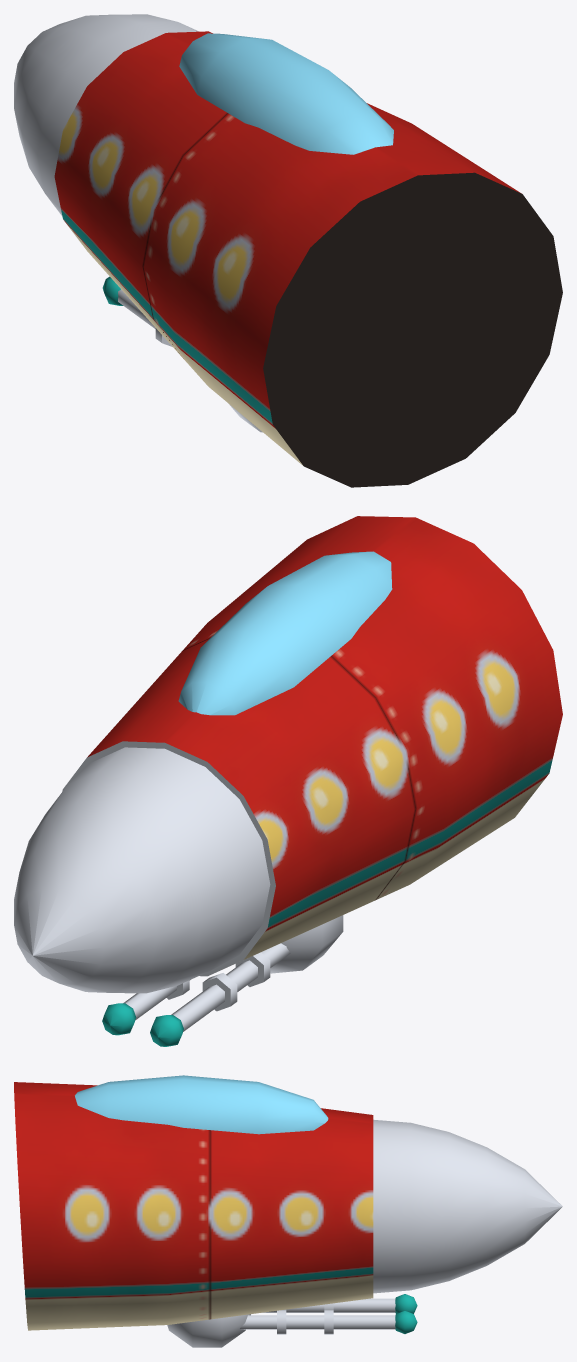
The model's file is thunderbolt_debris1.obj.
3 renders of one model, top to bottom at view 1: azimuth 30°, elevation 25°; view 2: azimuth 150°, elevation 25°; view 3: azimuth 270°, elevation 25°, orthographic. The views are drawn at different scales.
Visible parts, largest first — view 1: hull, canopy; view 2: hull, canopy, chin, turret, chin_tip, chin_ring; view 3: hull, canopy, chin, turret, chin_tip, chin_ring.
Part boxes in pixels (x1,y1,x2,y2): hull: [14, 14, 562, 487]; canopy: [179, 33, 393, 154]; hull: [14, 516, 562, 993]; canopy: [178, 551, 392, 715]; chin: [123, 943, 290, 1031]; turret: [270, 915, 343, 973]; chin_tip: [102, 1003, 183, 1046]; chin_ring: [166, 952, 270, 1011]; hull: [14, 1082, 562, 1330]; canopy: [75, 1075, 328, 1134]; chin: [240, 1298, 395, 1329]; turret: [167, 1314, 250, 1347]; chin_tip: [395, 1294, 417, 1333]; chin_ring: [277, 1303, 333, 1334].
Bounding box in the file's own units: 3.15 × 3.69 × 6.95.
5 materials, 1 textured.
